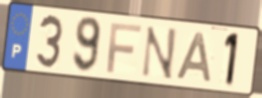1: (221, 32, 242, 90)
3: (34, 13, 65, 70)
9: (70, 15, 102, 76)
A: (174, 30, 213, 84)
F: (105, 21, 143, 75)
N: (139, 24, 179, 82)
